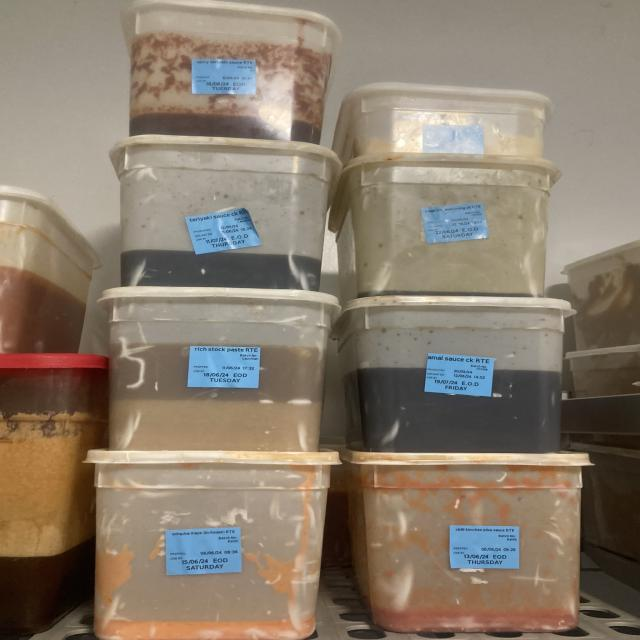product-labels: (164, 526, 243, 575), (185, 205, 262, 255), (188, 346, 260, 388), (450, 526, 520, 569), (425, 353, 494, 396), (421, 202, 489, 244), (191, 59, 256, 95), (422, 125, 484, 154)
